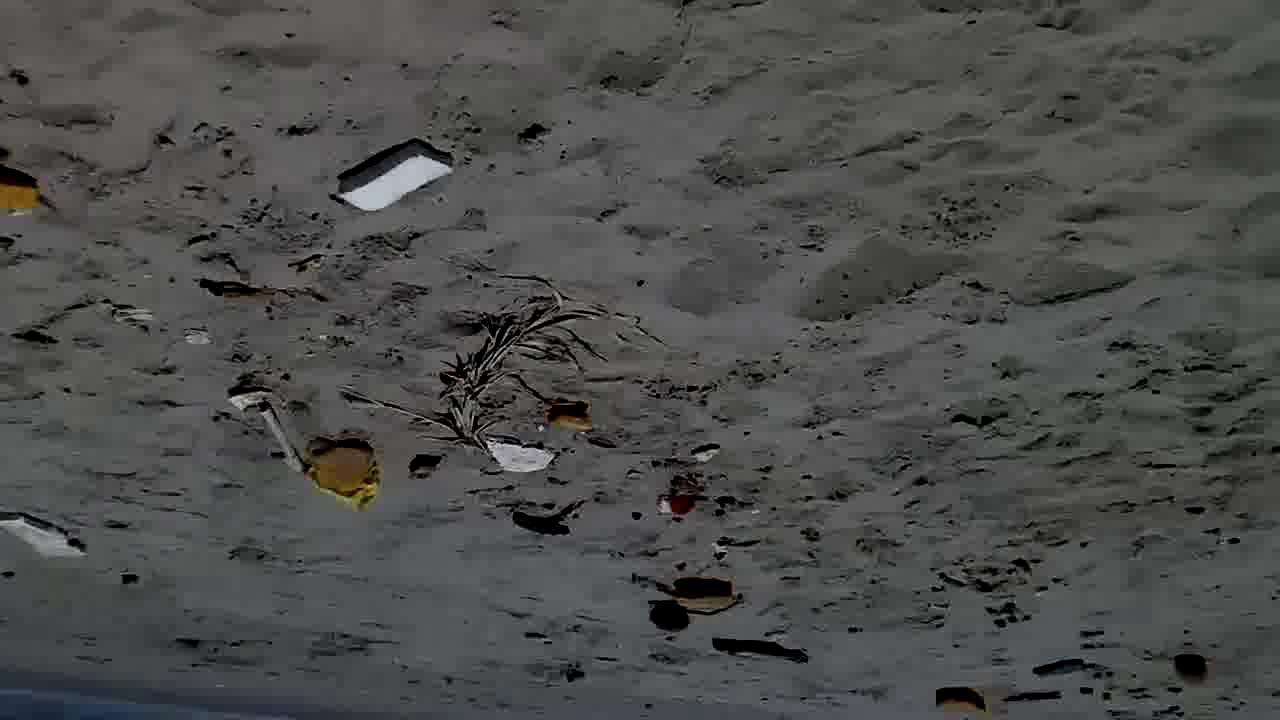obj: (339, 267, 671, 472), (328, 139, 462, 220), (302, 437, 377, 514), (704, 638, 816, 674), (1, 512, 88, 558), (194, 278, 296, 307), (646, 599, 728, 635), (489, 436, 560, 476), (667, 580, 742, 608), (0, 165, 42, 213), (933, 686, 991, 718), (1172, 654, 1210, 688), (548, 404, 592, 432), (665, 493, 703, 521)
sand/background: (0, 653, 419, 719)
